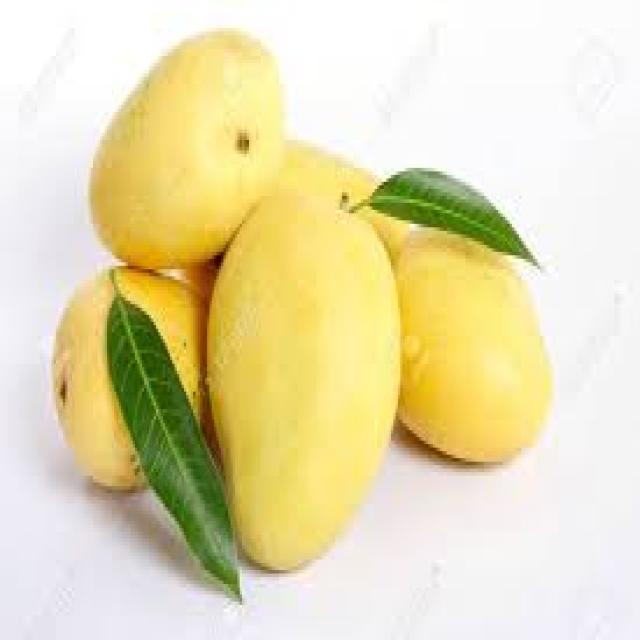mango: (209, 192, 403, 577), (84, 36, 286, 261), (392, 214, 544, 454), (39, 274, 209, 476)
